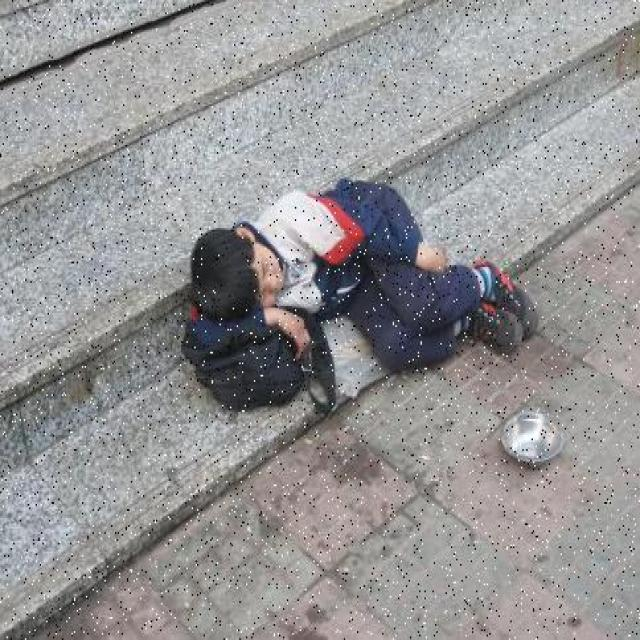fall: (185, 171, 526, 366)
